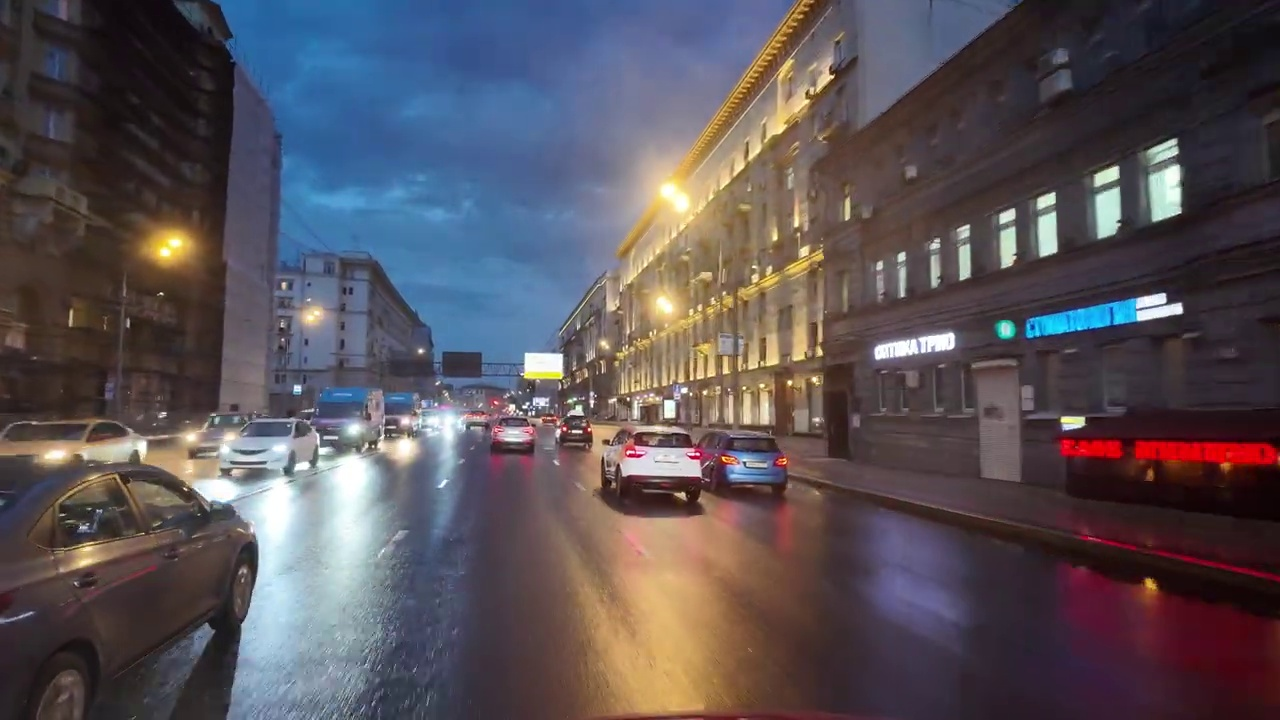acesa: (656, 180, 696, 217), (151, 231, 192, 265), (648, 292, 679, 320), (300, 304, 325, 328)
